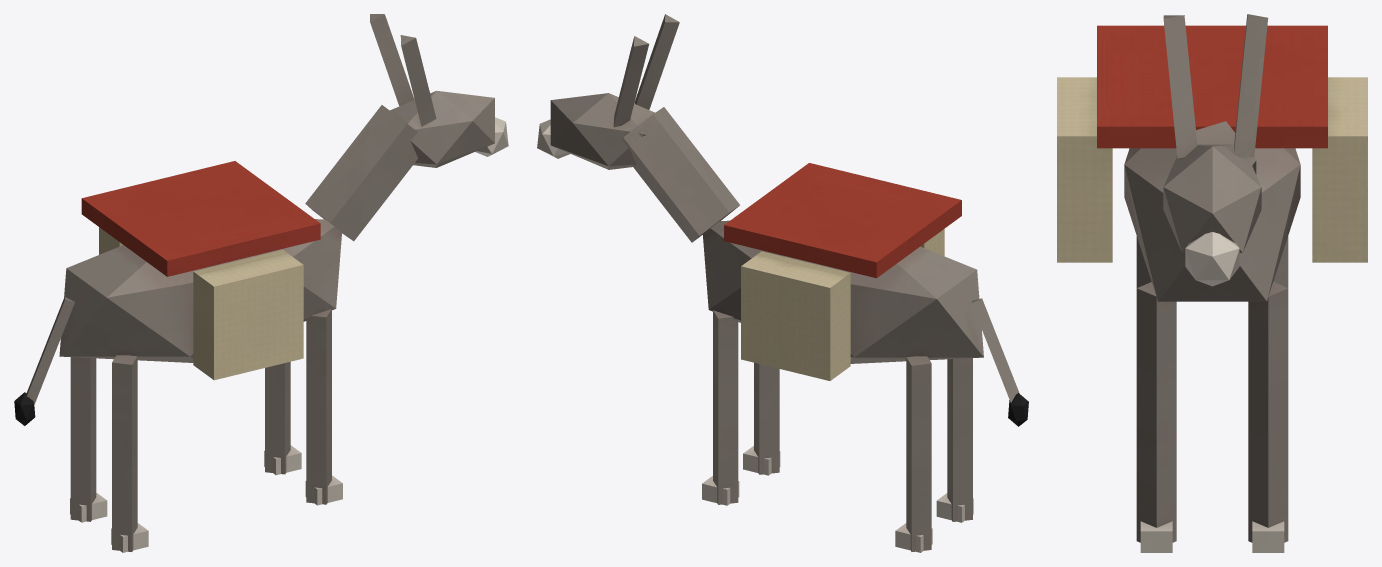
Rendered from asna_tex.glb.
3 views of the same model, side by side, from view 1: azimuth 30°, elevation 25°; view 2: azimuth 150°, elevation 25°; view 3: azimuth 270°, elevation 25° (orthographic). The views are drawn at different scales.
Parts seen in each view (by area): view 1: asna; view 2: asna; view 3: asna.
Part boxes in pixels (x1=…): asna: x1=14, y1=14, x2=508, y2=552; asna: x1=537, y1=14, x2=1028, y2=552; asna: x1=1057, y1=14, x2=1367, y2=552.
Bounding box in the file's own units: 1.92 × 1.63 × 0.78.
5 materials, 4 textured.
